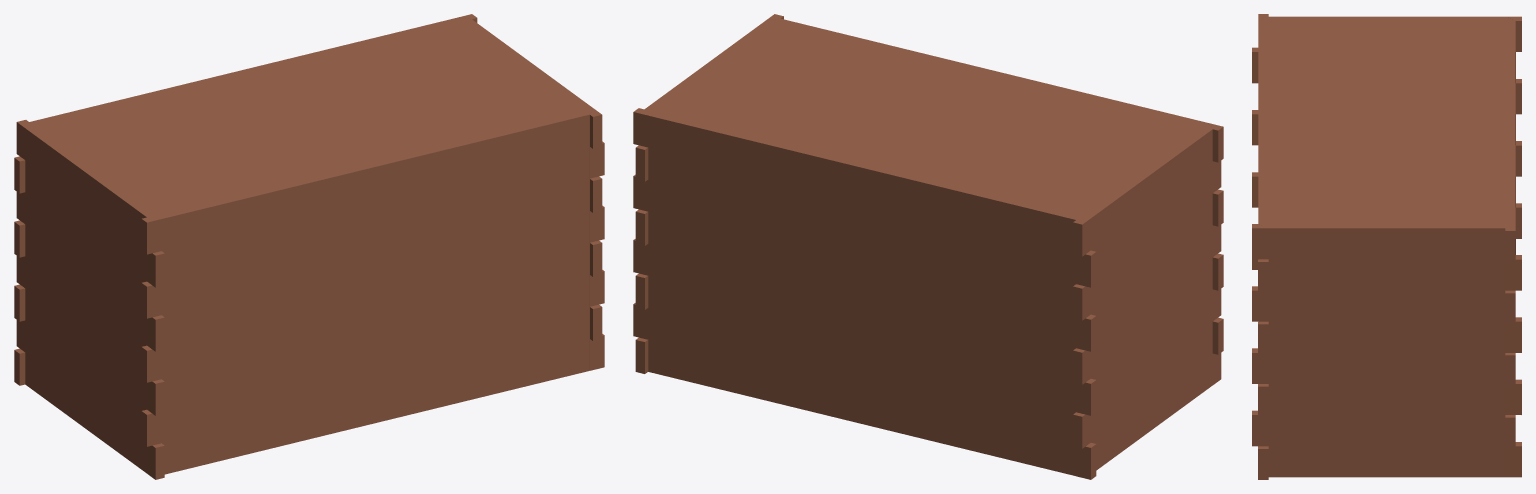
The model's file is LightWoodBuildingLargeChaletFloor1.fbx.
3 views of the same model, side by side, from view 1: azimuth 30°, elevation 25°; view 2: azimuth 150°, elevation 25°; view 3: azimuth 270°, elevation 25° (orthographic). The views are drawn at different scales.
Visible parts, largest first — view 1: LightWoodBuildingLargeChaletFloor1; view 2: LightWoodBuildingLargeChaletFloor1; view 3: LightWoodBuildingLargeChaletFloor1.
Boxes of the visible parts, box(x1,y1,x2,y2) form: LightWoodBuildingLargeChaletFloor1: box(14, 14, 604, 479); LightWoodBuildingLargeChaletFloor1: box(633, 14, 1223, 479); LightWoodBuildingLargeChaletFloor1: box(1252, 14, 1521, 479).
Size of the model in its own units: 839 by 449 by 441.
